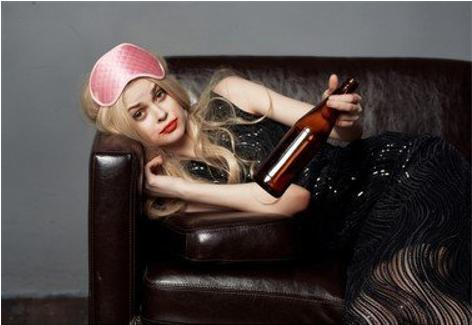Drunk: (121, 81, 185, 144)
